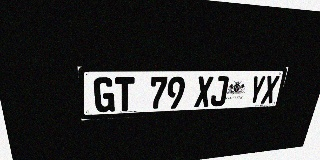7: (148, 77, 168, 110)
9: (166, 76, 186, 109)
G: (93, 77, 115, 113)
J: (210, 76, 229, 106)
T: (115, 77, 134, 112)
X: (194, 76, 213, 107), (260, 75, 280, 104)
Y: (247, 76, 266, 104)
